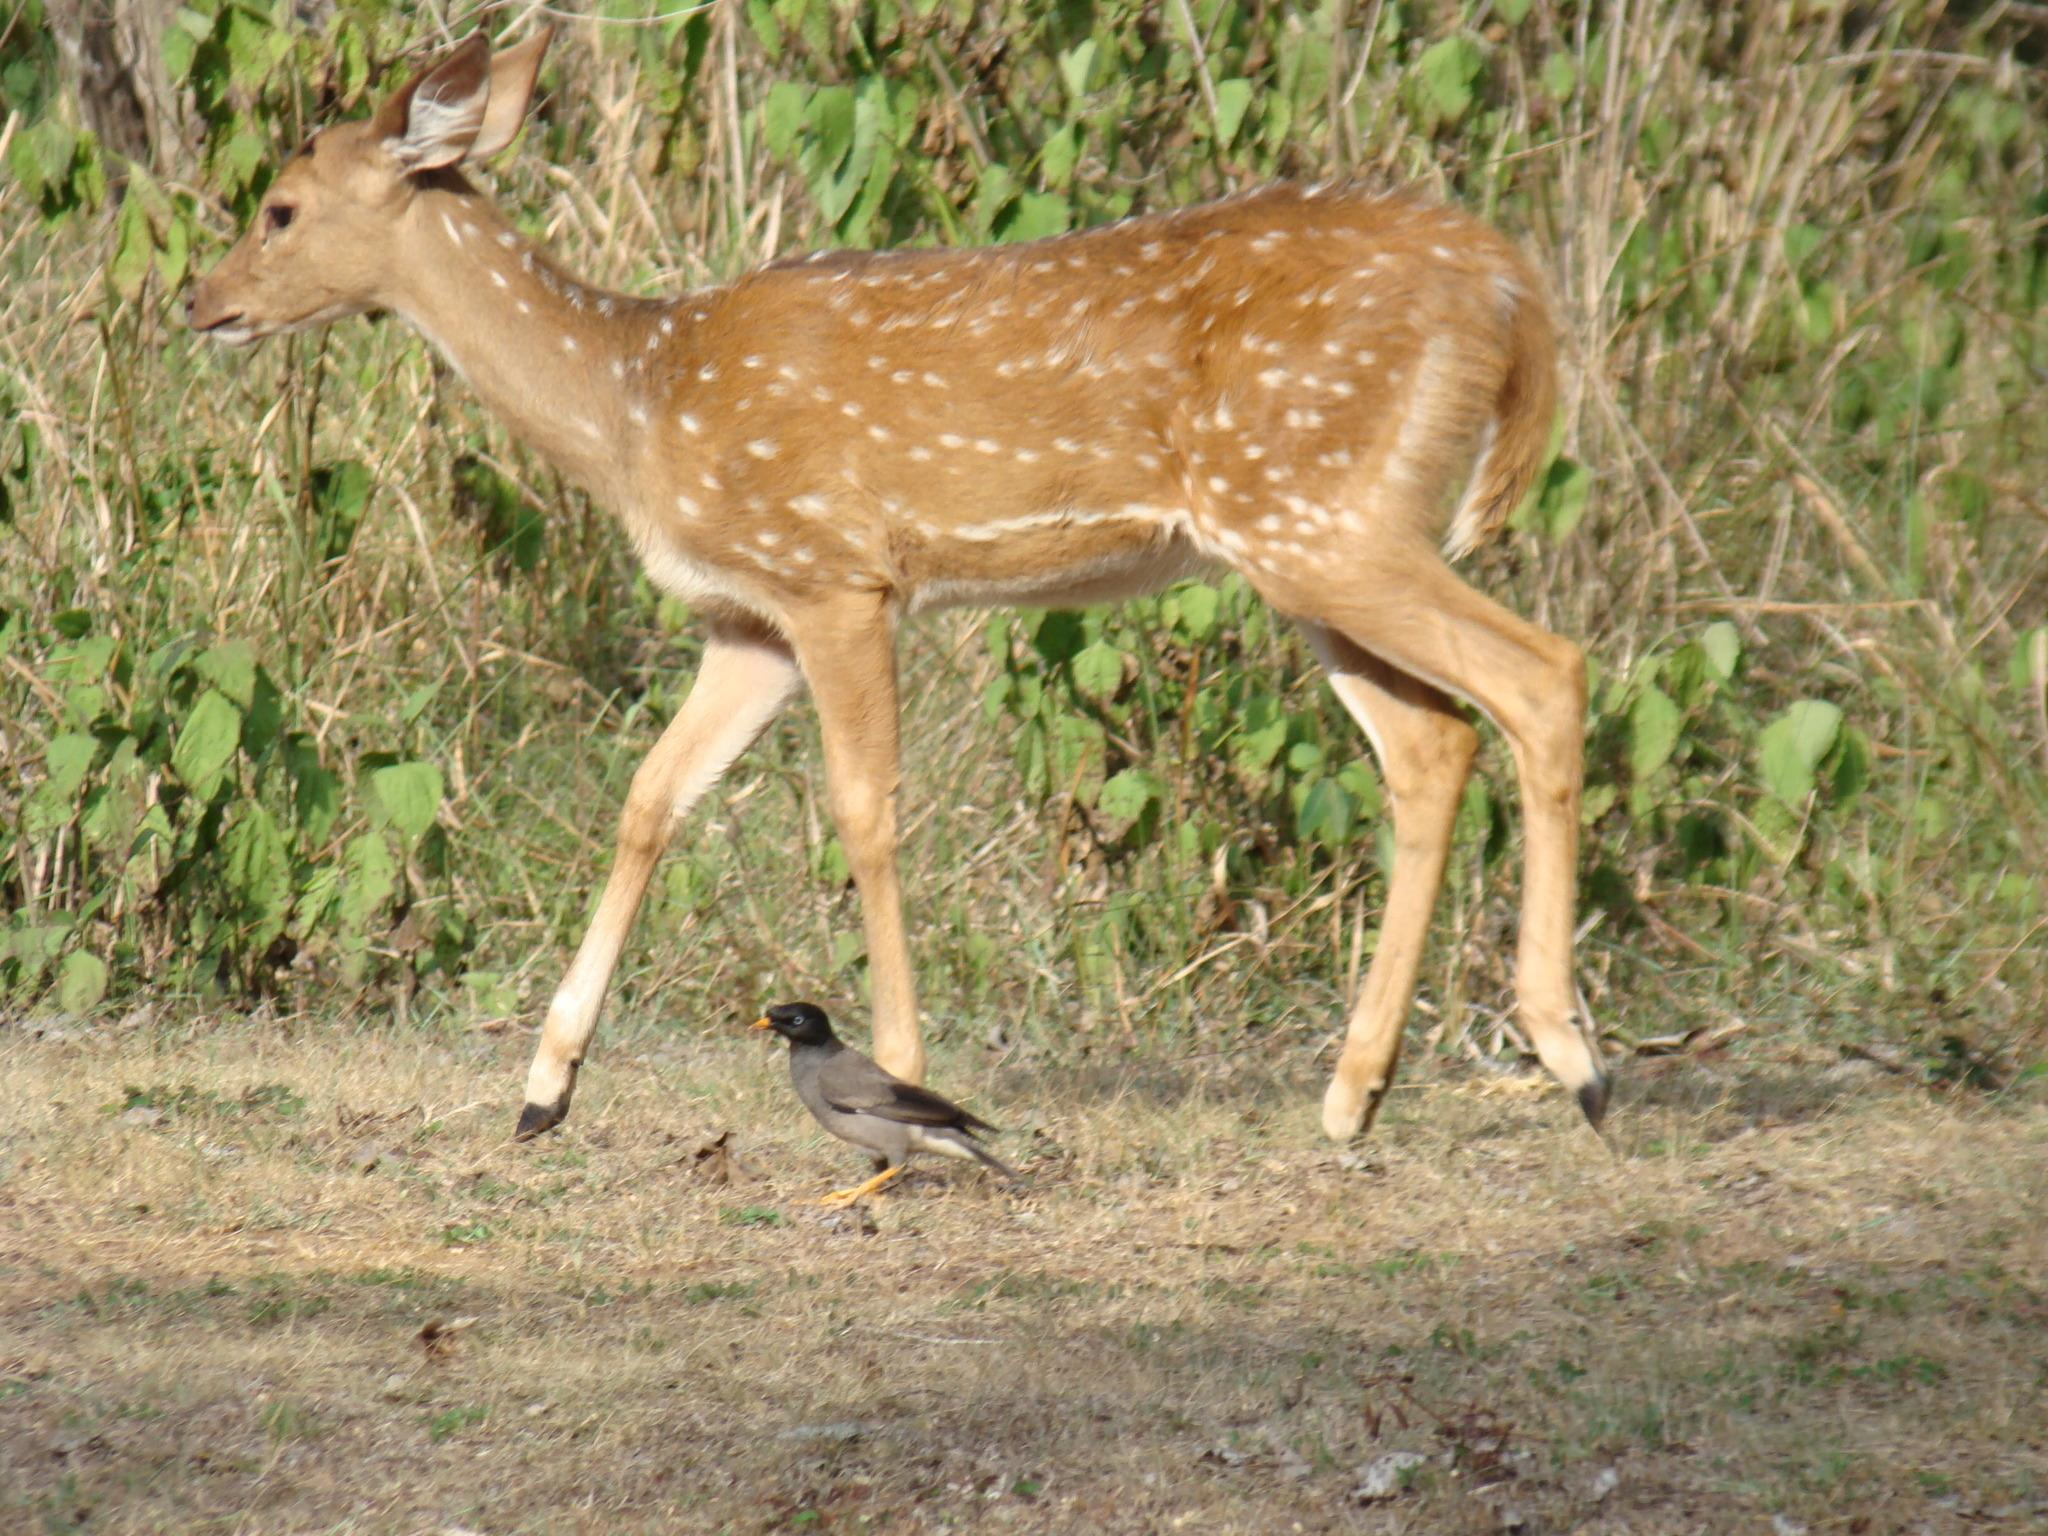Deer: (189, 32, 1605, 1137)
